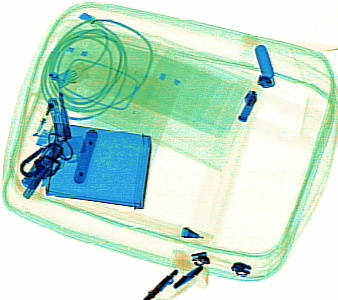lighter: (34, 68, 75, 146)
